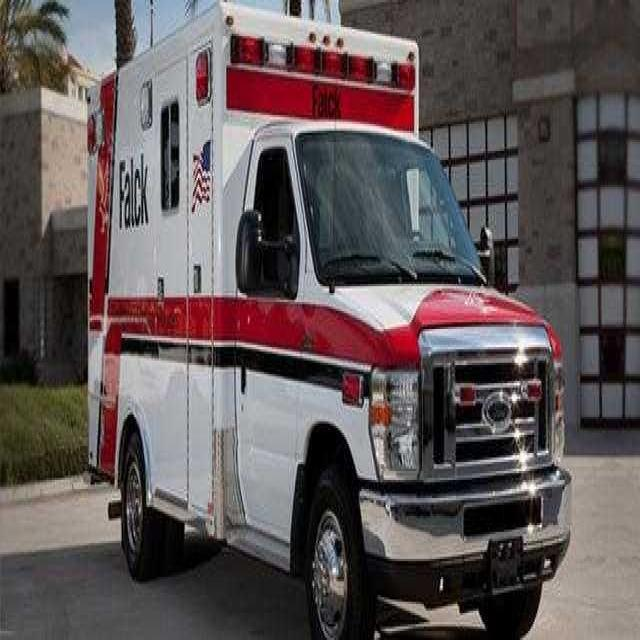emergency-vehicle: (70, 12, 579, 636)
